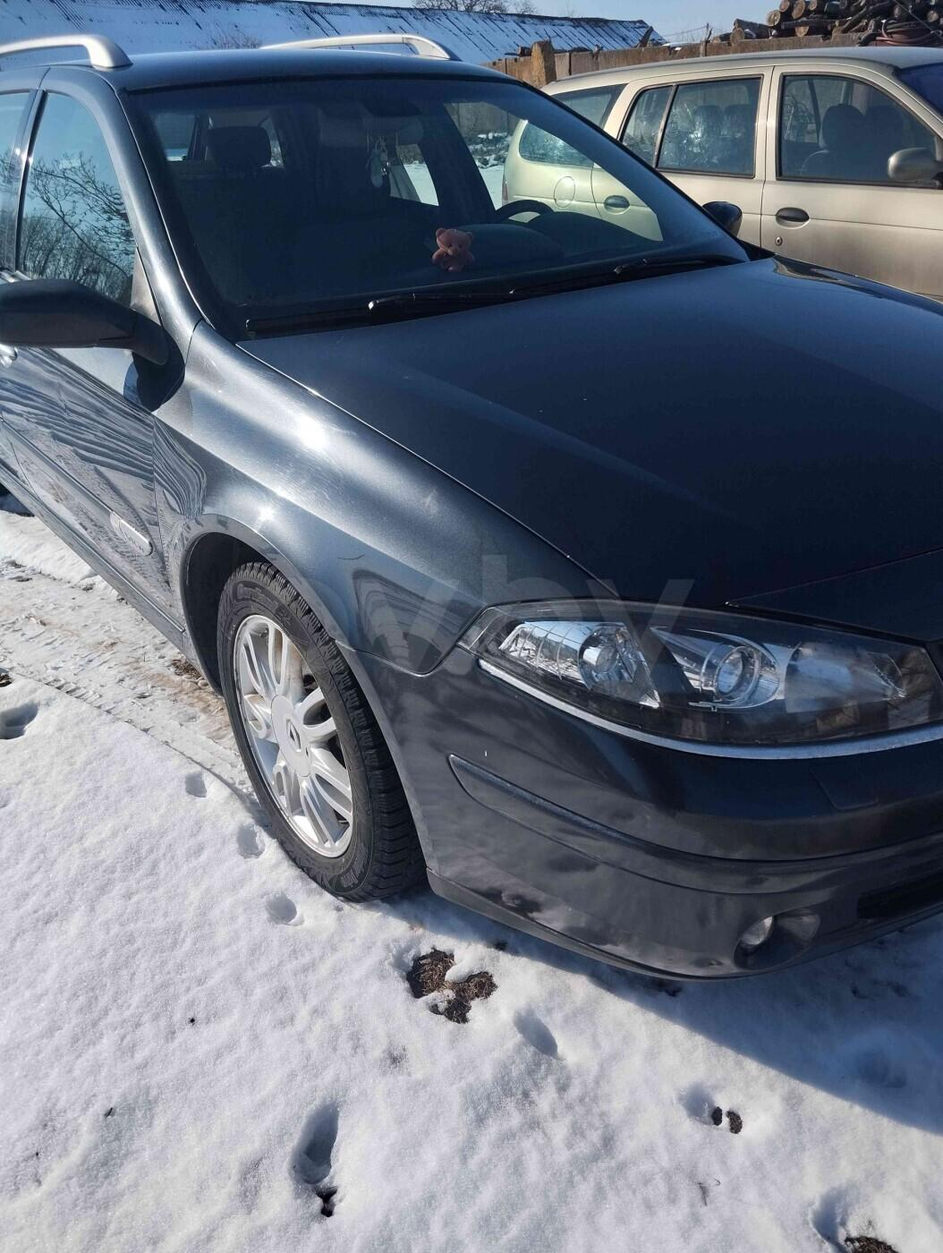Laguna_2005-2007: (0, 29, 943, 977)
